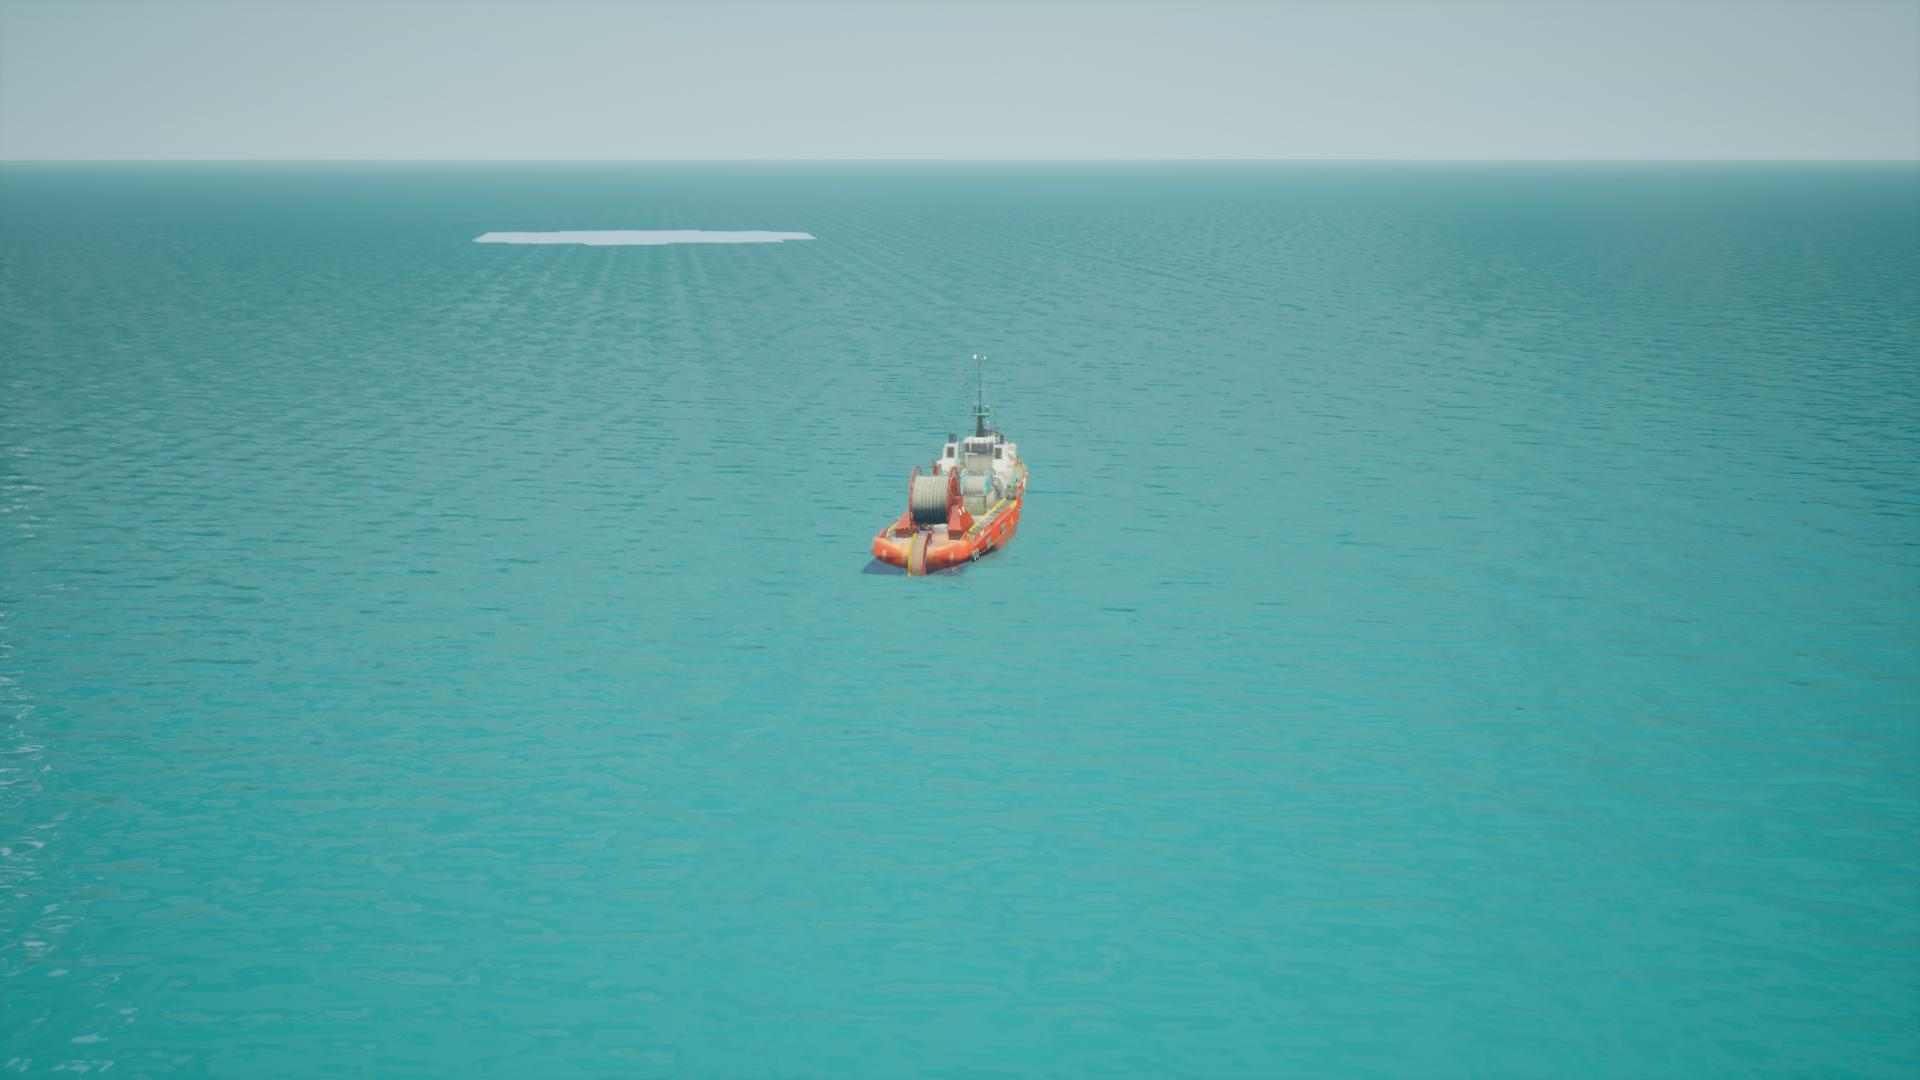Tug Boat: (880, 355, 1029, 582)
